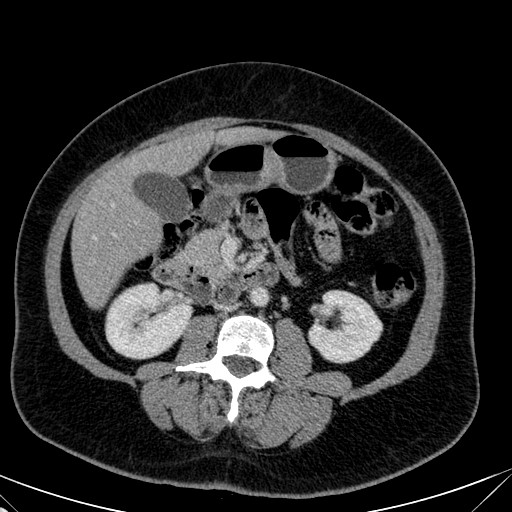vesicula: (131, 170, 193, 225)
